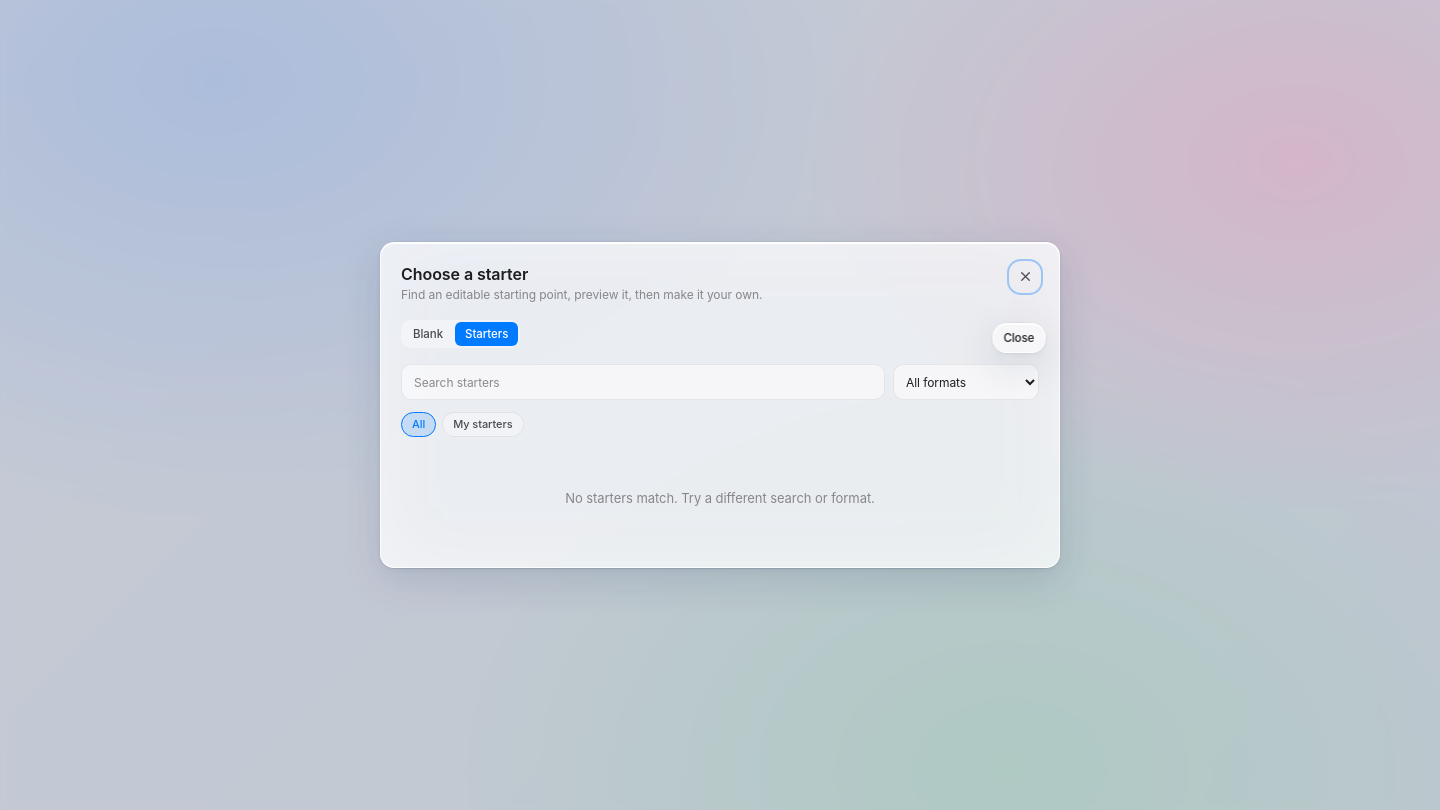
Test case: custom starter library › always offers the custom category, with guidance while it is empty
This screenshot has width=1440, height=810.
Click the button "My starters" at x=483, y=424, box x1=442 y1=412 x2=524 y2=437
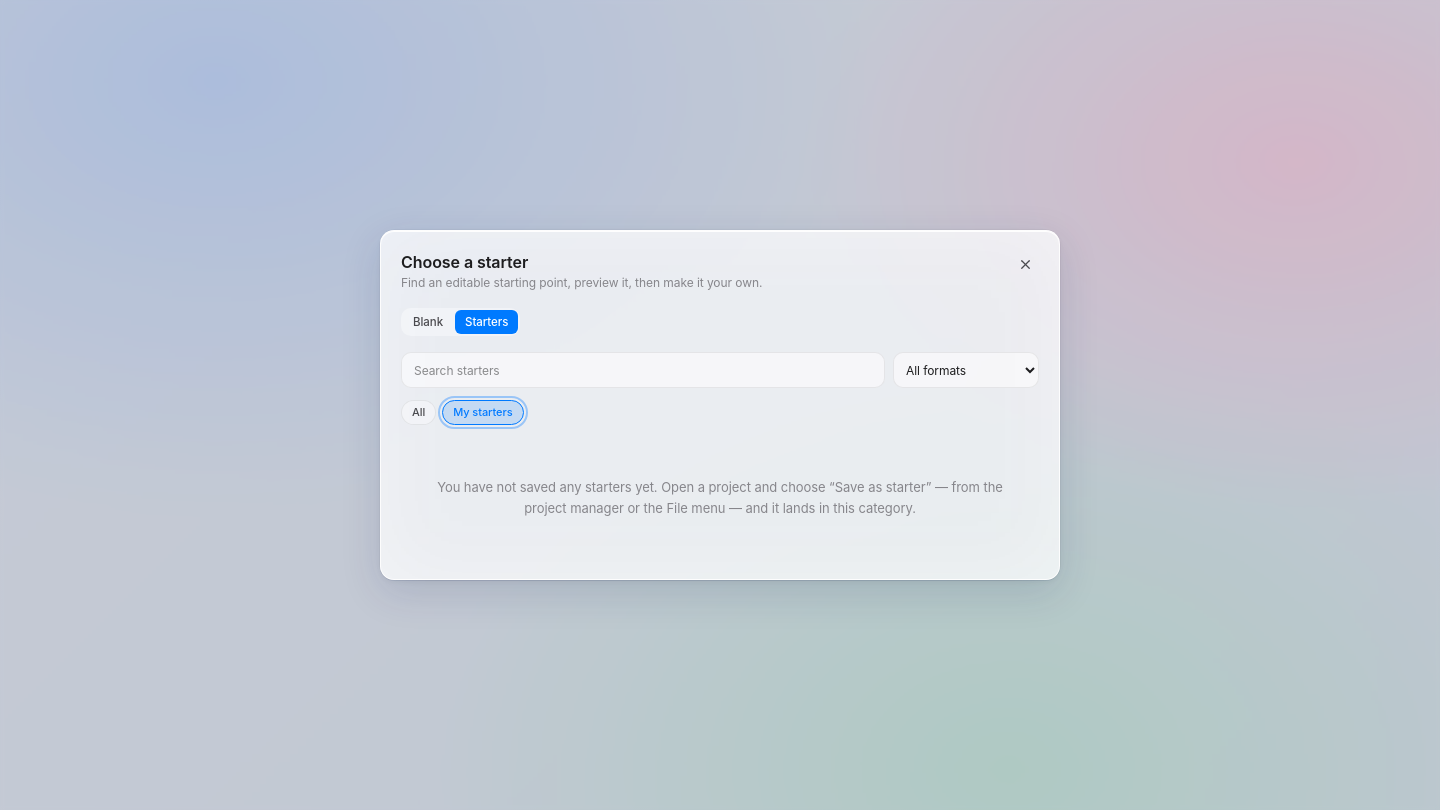
Check: the text "have not saved any starters yet" is shown, box x1=437 y1=479 x2=1003 y2=516
